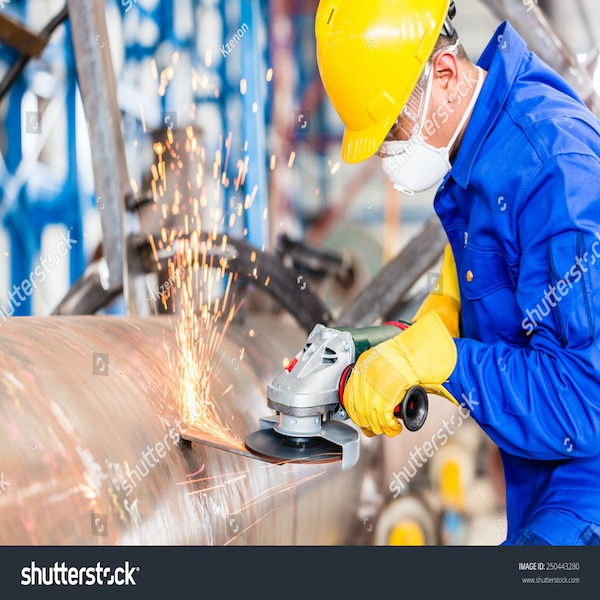heat: (168, 156, 248, 442)
helmet: (322, 4, 456, 151)
